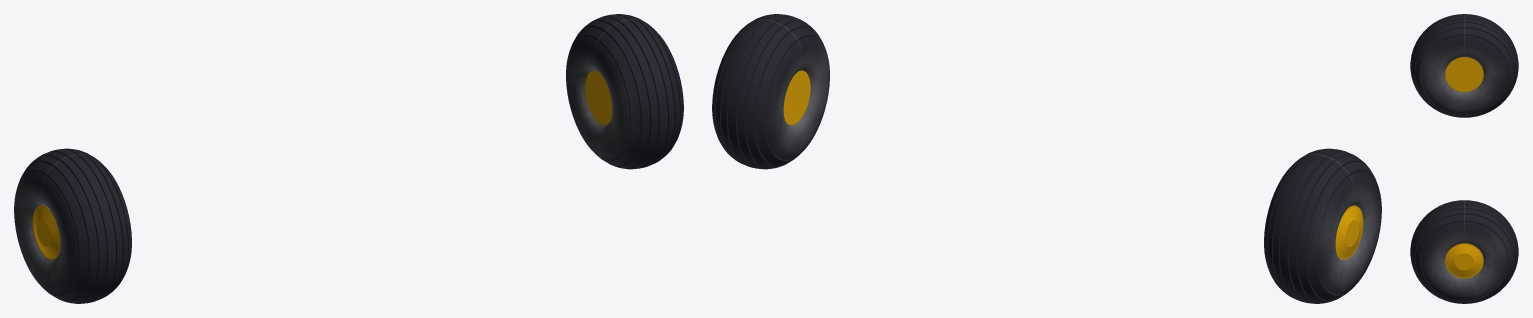
Rendered from wheels.obj.
The picture shows the model from 3 angles, left to right: view 1: azimuth 30°, elevation 25°; view 2: azimuth 150°, elevation 25°; view 3: azimuth 270°, elevation 25°; orthographic projection. The views are drawn at different scales.
Visible parts, largest first — view 1: wheel_R01_Plane.022_wheel_R01_Plane.000; view 2: wheel_R01_Plane.022_wheel_R01_Plane.000; view 3: wheel_R01_Plane.022_wheel_R01_Plane.000.
Part boxes in pixels (<box>): wheel_R01_Plane.022_wheel_R01_Plane.000: <box>14,14,683,303</box>; wheel_R01_Plane.022_wheel_R01_Plane.000: <box>712,14,1381,303</box>; wheel_R01_Plane.022_wheel_R01_Plane.000: <box>1410,14,1518,303</box>.
Bounding box in the file's own units: 1.95 × 0.4317 × 0.4309.
Materials: 2 (2 with a texture image).
